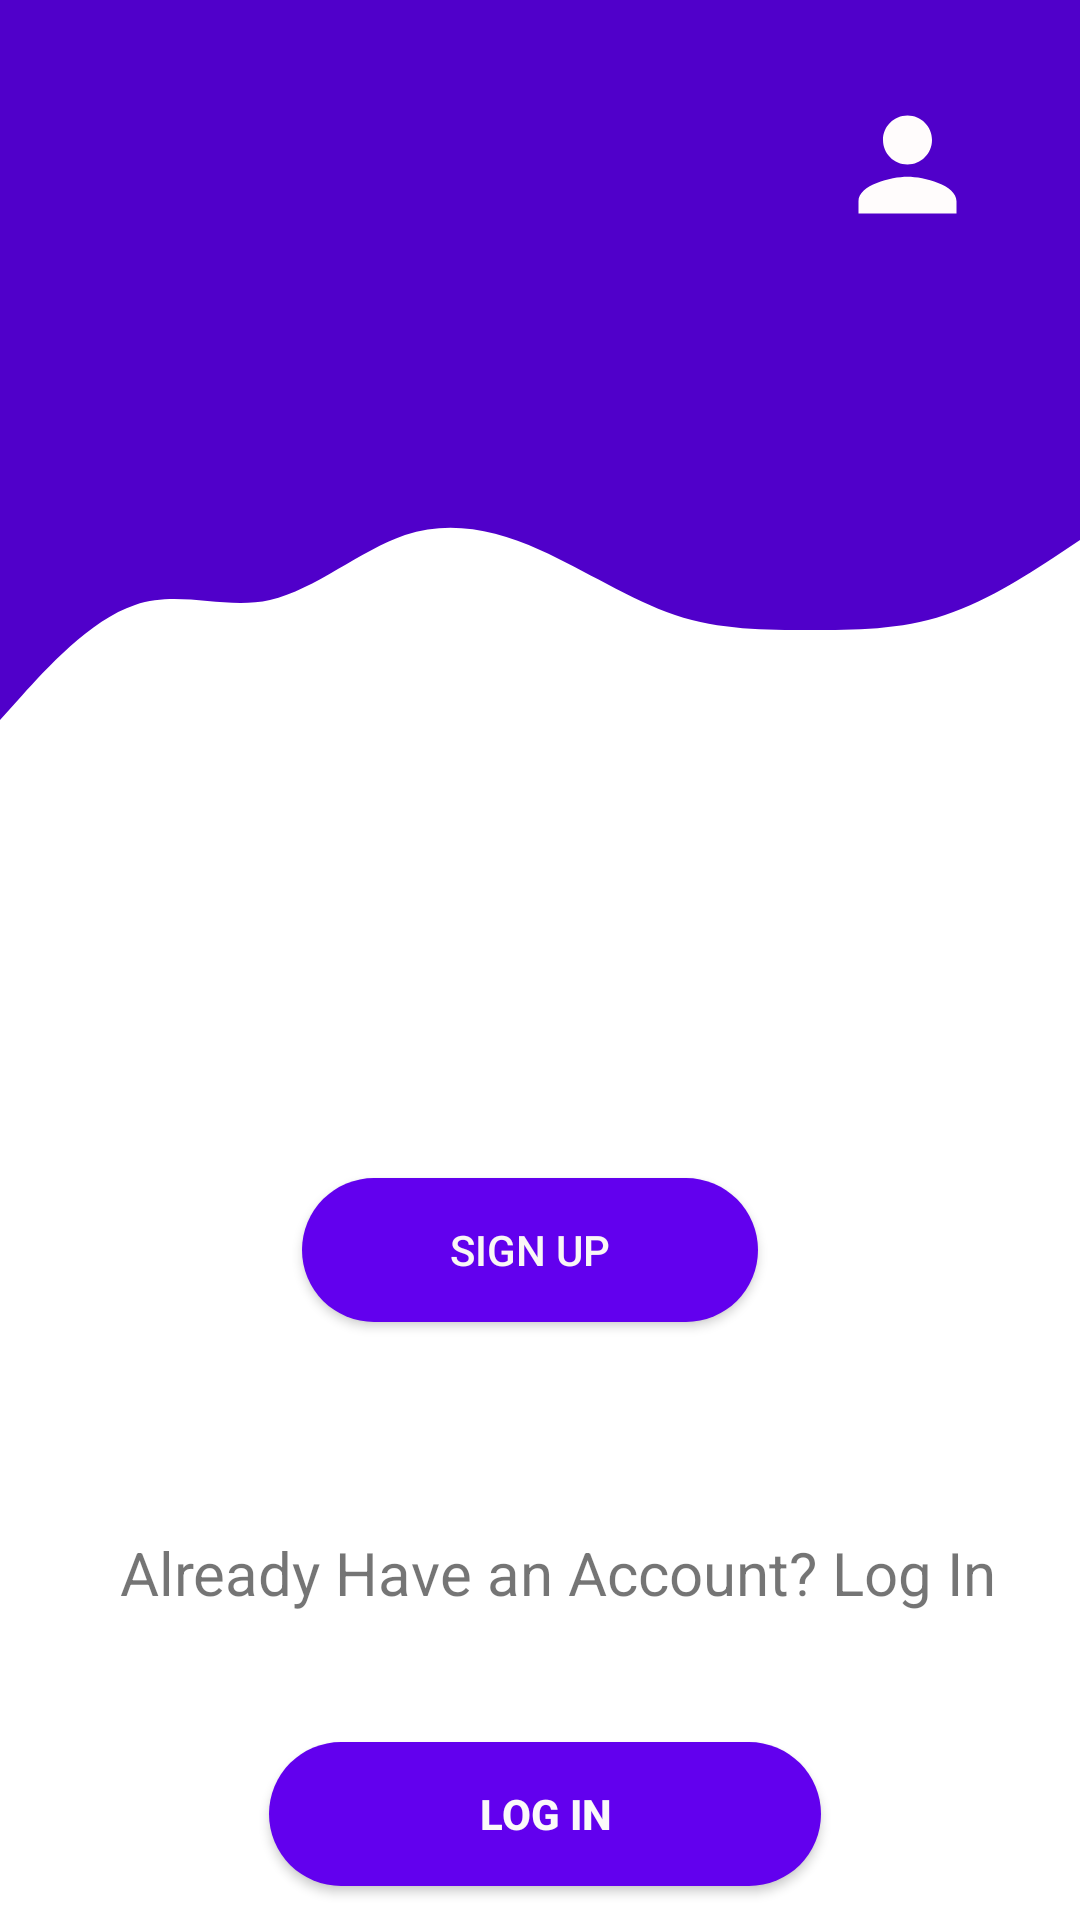

Screen size 1080 x 1920. Icon name, then its center in pixels as (x=x, y=y):
person: (x=907, y=164)
